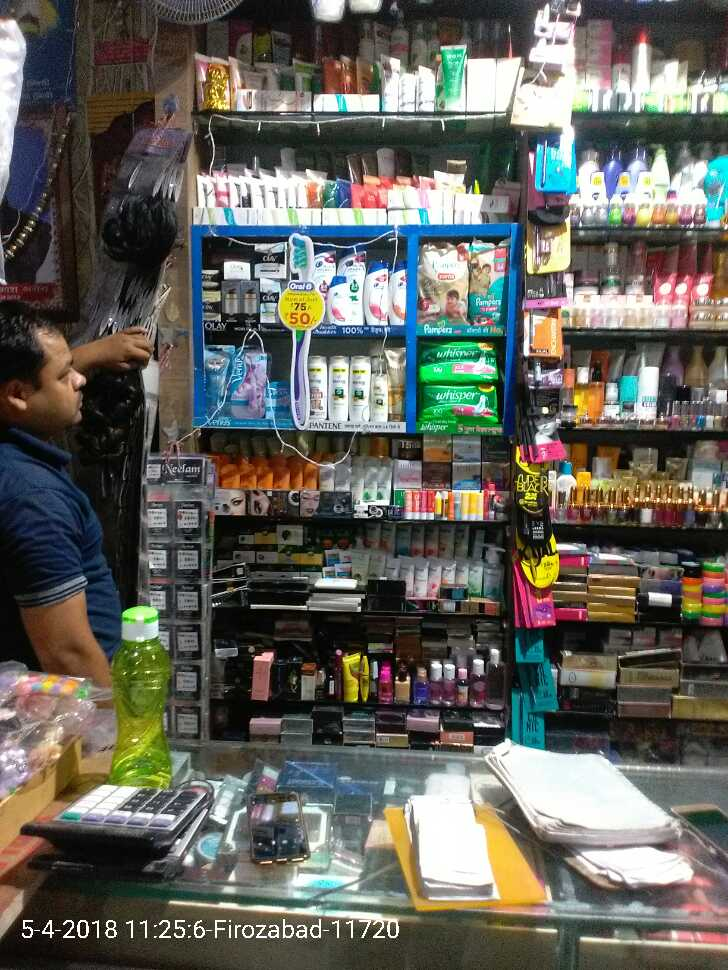venus: (235, 346, 266, 419), (207, 346, 235, 419), (265, 380, 291, 419)
